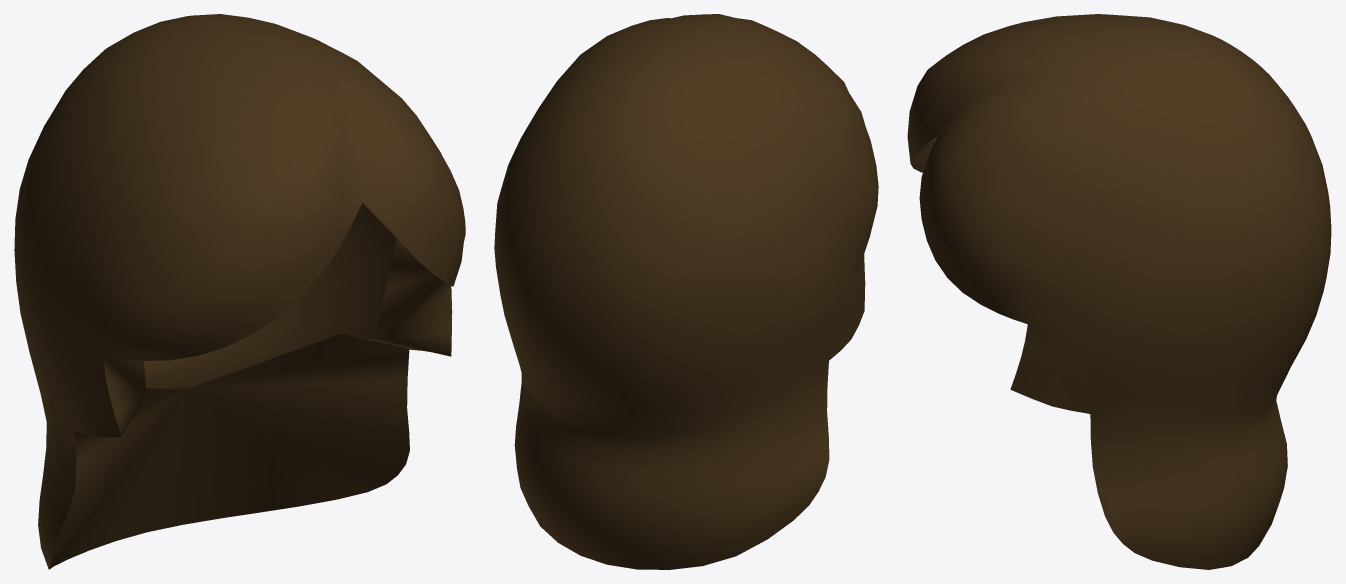
The model's file is hair_086.gltf.
3 renders of one model, left to right at view 1: azimuth 30°, elevation 25°; view 2: azimuth 150°, elevation 25°; view 3: azimuth 270°, elevation 25°, orthographic. The views are drawn at different scales.
Parts seen in each view (by area): view 1: hair.134; view 2: hair.134; view 3: hair.134.
Boxes of the visible parts, box(x1,y1,x2,y2) form: hair.134: box(14, 14, 465, 569); hair.134: box(494, 14, 878, 569); hair.134: box(907, 14, 1331, 569).
Size of the model in its own units: 0.1145 by 0.166 by 0.1271.
